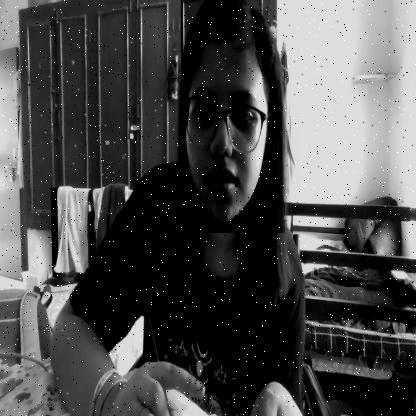Normal: (181, 0, 286, 233)
